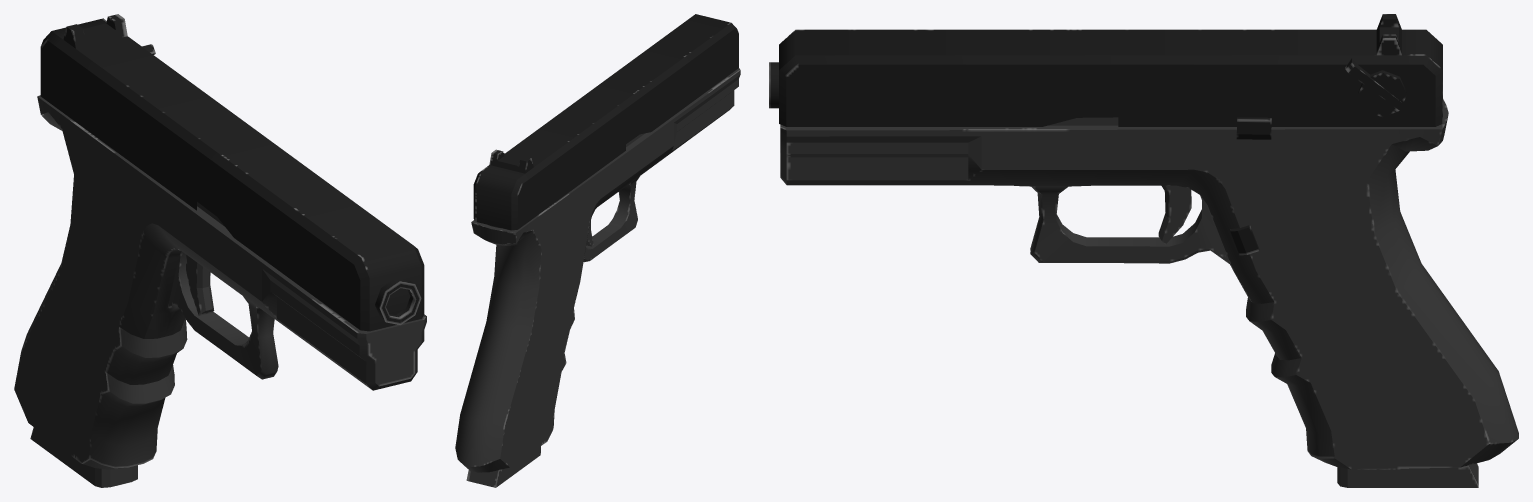
The model's file is glock.fbx.
The picture shows the model from 3 angles, left to right: view 1: azimuth 30°, elevation 25°; view 2: azimuth 150°, elevation 25°; view 3: azimuth 270°, elevation 25°; orthographic projection. The views are drawn at different scales.
Parts seen in each view (by area): view 1: Cube.027; view 2: Cube.027; view 3: Cube.027.
Boxes of the visible parts, left/top/right/bottom form: Cube.027: left=14, top=14, right=426, bottom=487; Cube.027: left=455, top=14, right=740, bottom=487; Cube.027: left=769, top=14, right=1518, bottom=487.
Bounding box in the file's own units: 0.0288 × 0.1627 × 0.2454.
